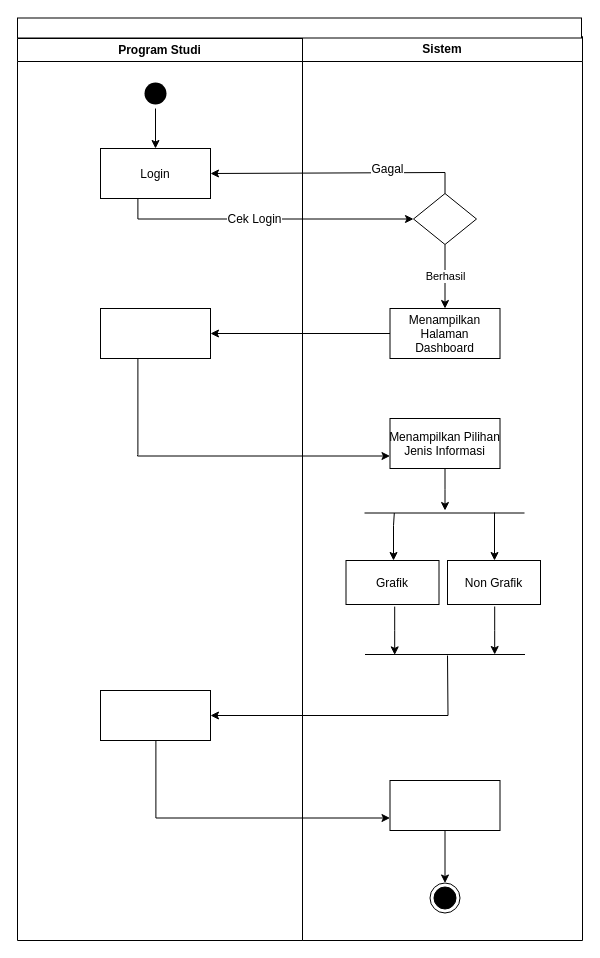
This 600x958 diagram has some shape labels left out. Here are the shapes that lost their labels. From the top down, the centre of each, then its label:
point (299, 27): Menampilkan Informasi Karya Ilmiah
point (155, 333): Memilih Menu Informasi
point (155, 715): Proses Pilihan
point (444, 805): Menampilkan Informasi Sesuai Pilihan
